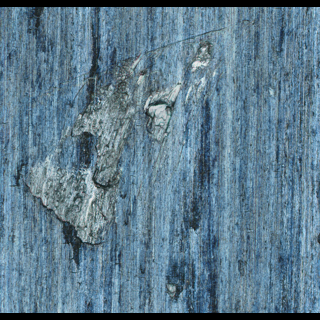d: (12, 39, 220, 267), (163, 268, 187, 302)
